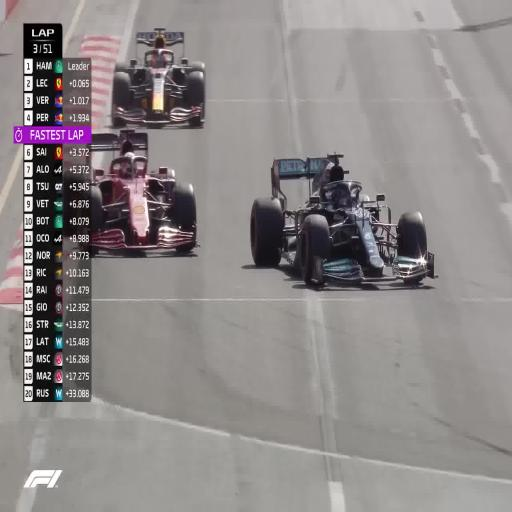f1_car: (250, 154, 436, 284), (82, 128, 197, 253), (111, 28, 205, 127), (67, 176, 73, 181), (74, 177, 76, 180)
